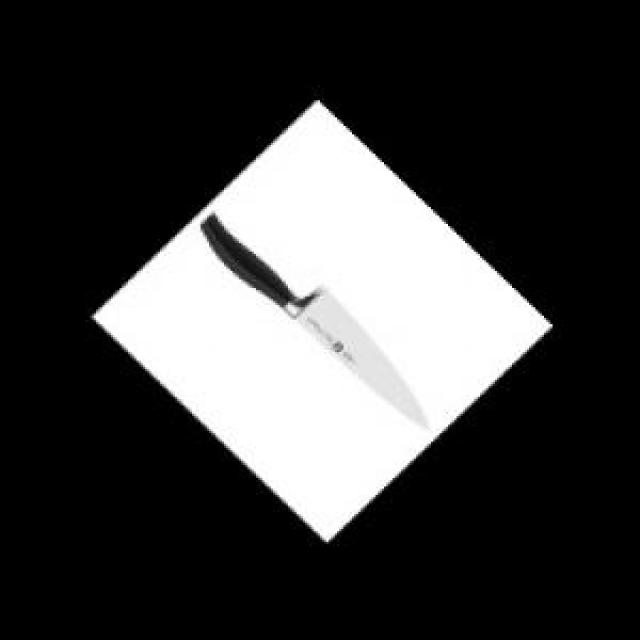knife: (201, 207, 436, 434)
